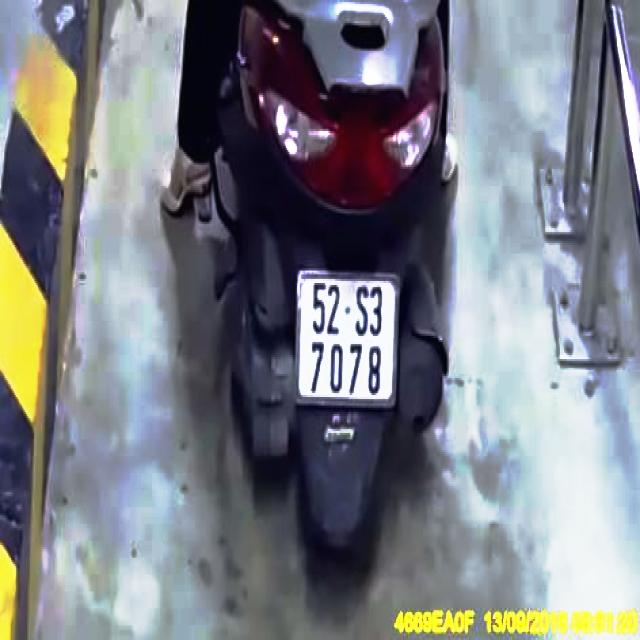license_plate: (296, 268, 403, 408)
